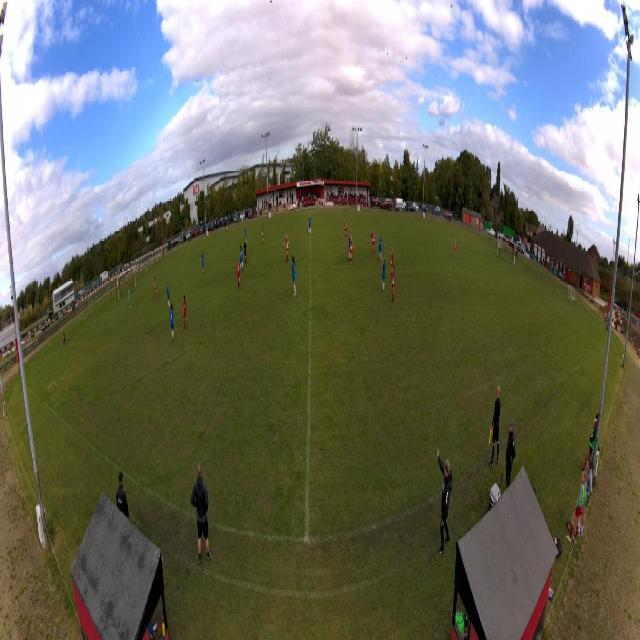ball: (130, 304, 132, 309)
player: (290, 256, 297, 297), (282, 233, 290, 263), (169, 304, 175, 343), (391, 264, 396, 303), (381, 256, 386, 294), (182, 294, 187, 330), (371, 229, 376, 260), (390, 246, 394, 283), (153, 277, 159, 301), (237, 258, 241, 292), (239, 245, 244, 272), (350, 235, 354, 265), (378, 232, 382, 262), (244, 238, 248, 266), (166, 281, 170, 309), (343, 218, 348, 240), (201, 249, 205, 275), (348, 231, 351, 261), (127, 288, 131, 310), (261, 224, 265, 245), (308, 214, 312, 235), (452, 236, 456, 257), (244, 225, 247, 245), (370, 243, 371, 244)
